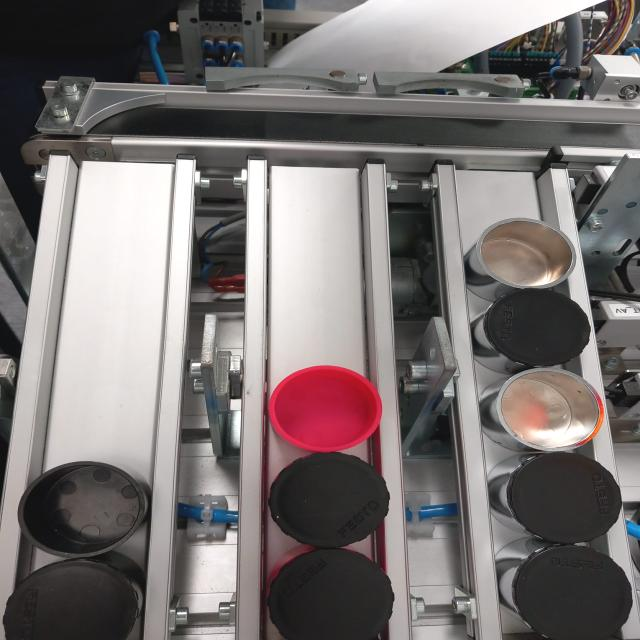NoLid: (6, 454, 145, 561), (258, 354, 389, 454), (485, 369, 606, 453), (472, 218, 580, 290)
Workpiece: (264, 547, 404, 640), (497, 544, 636, 637), (258, 454, 397, 544), (494, 462, 630, 546), (10, 568, 149, 640), (476, 292, 598, 370)
